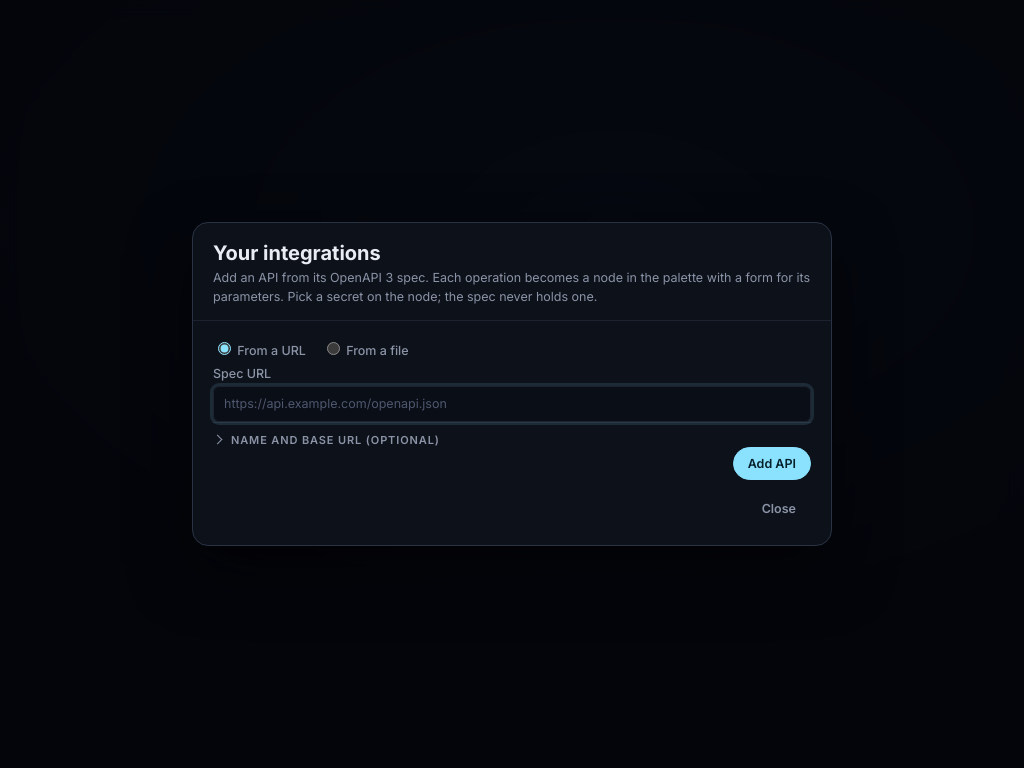
Test: ApiCatalogDialog › shows the server's refusal
Type "https://x.example.com/swagger.json" into the field labelled "Spec URL". click: (512, 404)
box: [213,386,811,422]
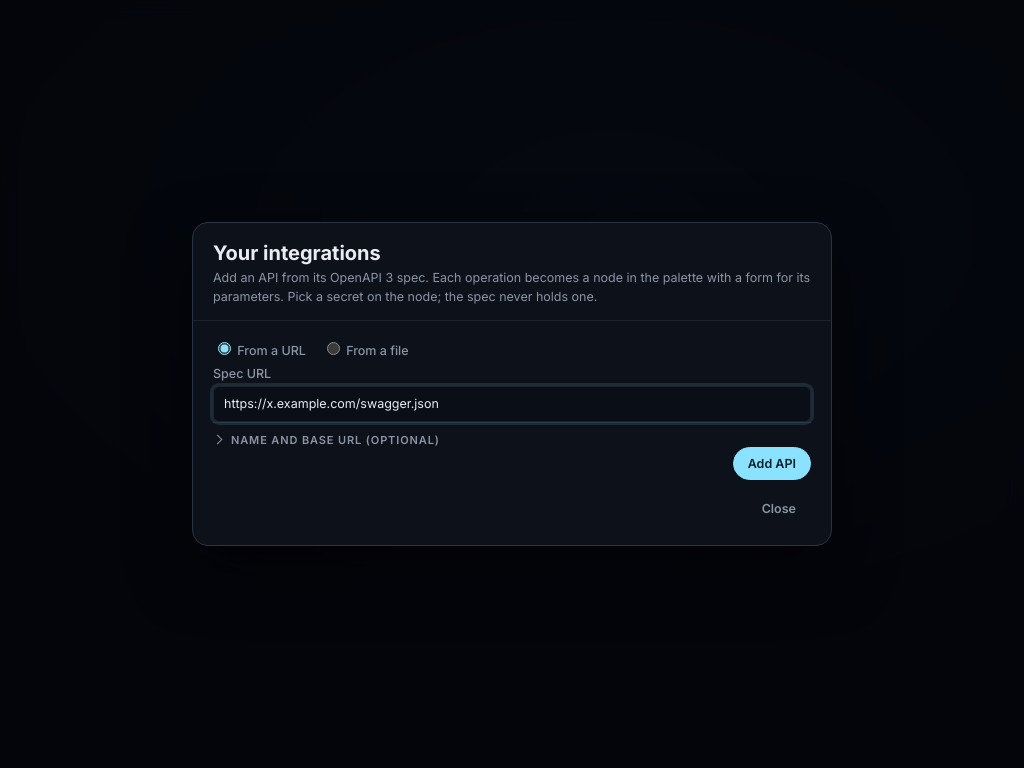
Click the button "Add API". click: (772, 464)
box: [733,447,811,480]
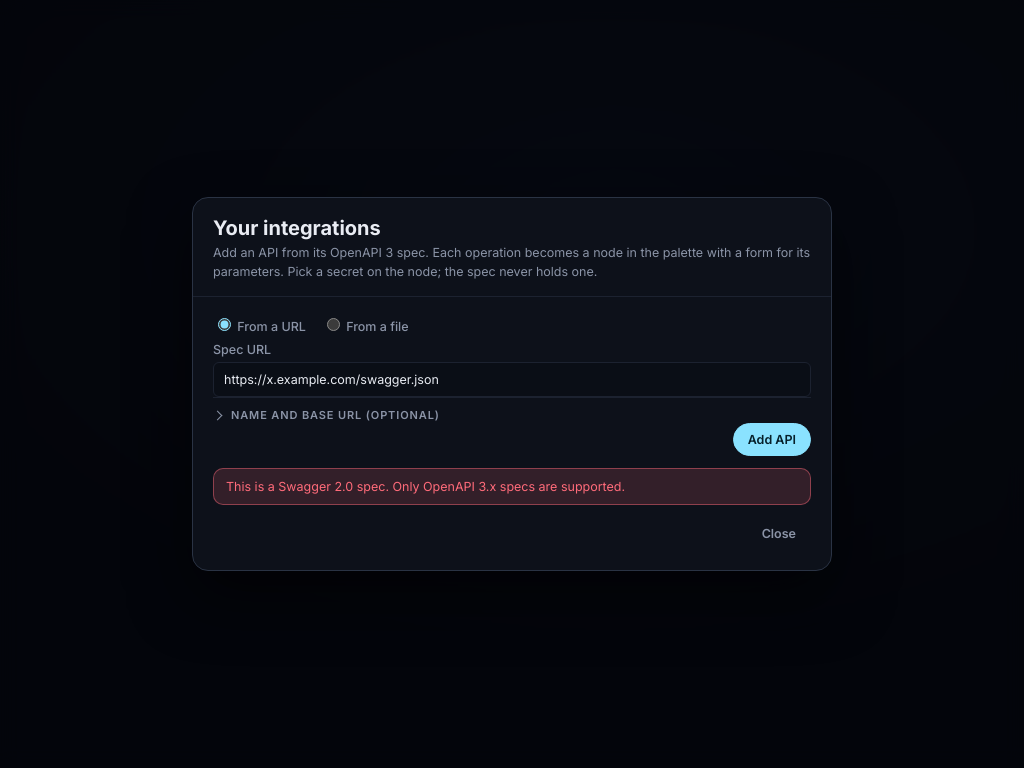
expect the message shows "Swagger 2.0": met, box [226,479,625,494]
